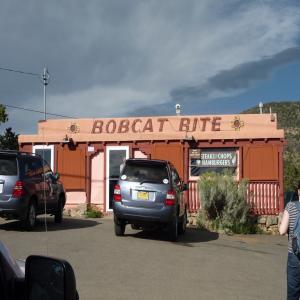Vehicle-registration-plate: (138, 193, 150, 202)
